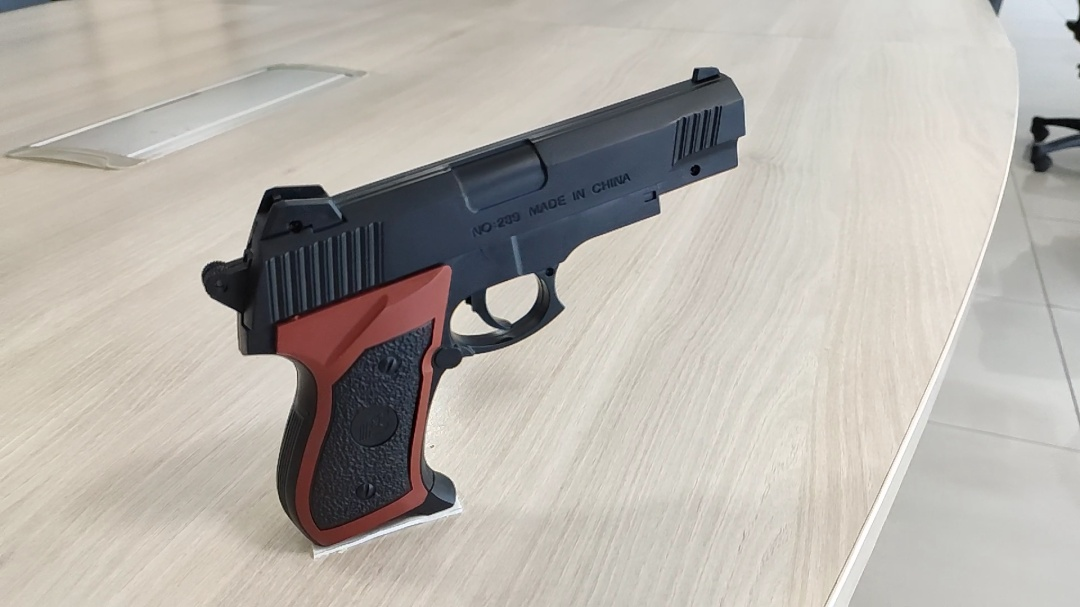gun: (627, 267, 679, 325)
